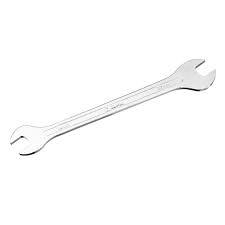wrench: (8, 56, 216, 156)
